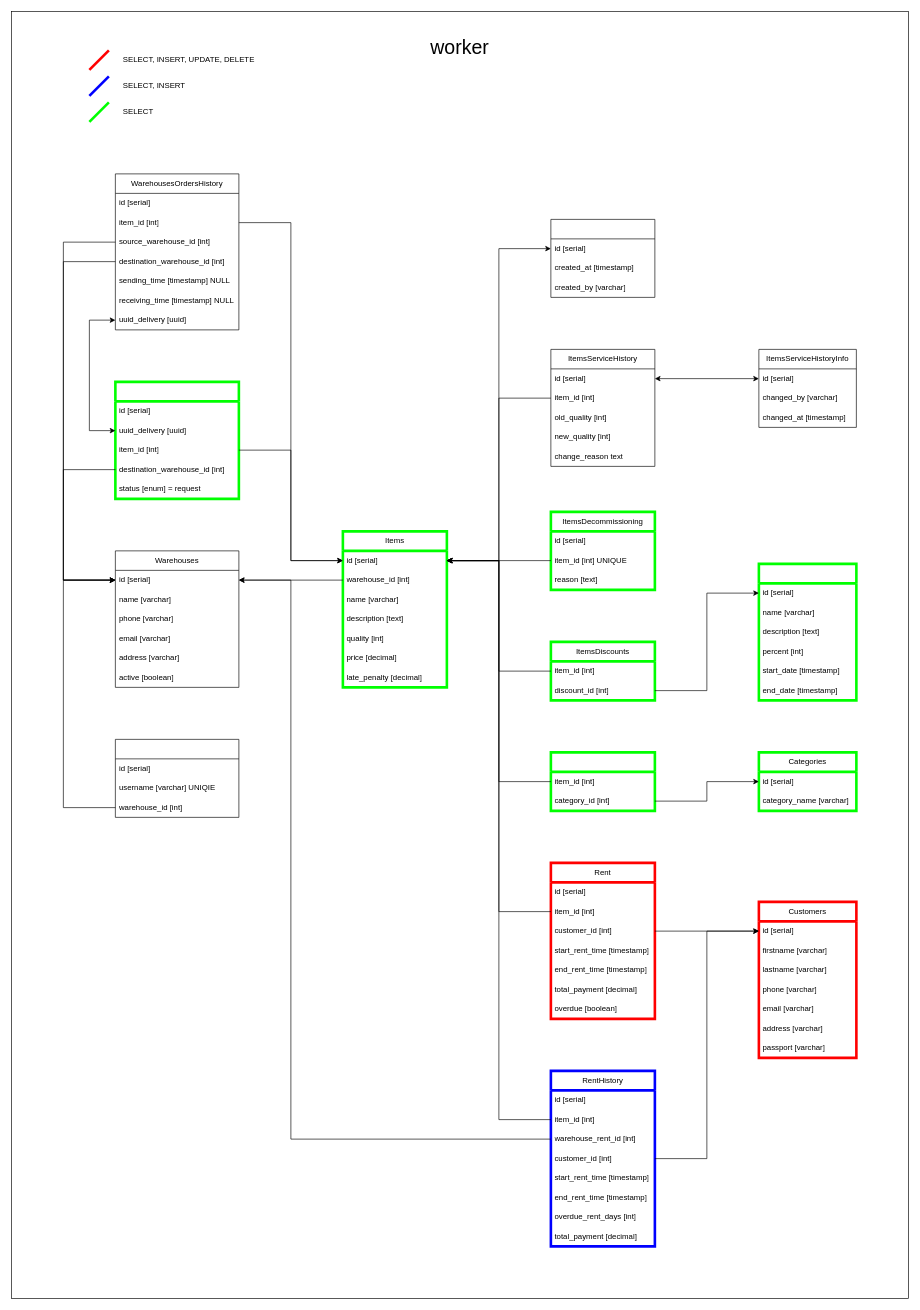
Some shapes in this 920 by 1310 pixel diagram are drawn without their labels. The shapes that lost their labels are listed below. From the top down, each one's box as (x1, y1, x2, y2) in pixels, then its label:
(550, 219, 655, 297): ItemsInfo
(114, 380, 240, 500): WarehousesOrders
(757, 562, 857, 701): Discounts
(115, 739, 239, 817): UserWarehouse
(549, 751, 656, 812): ItemsCategories
